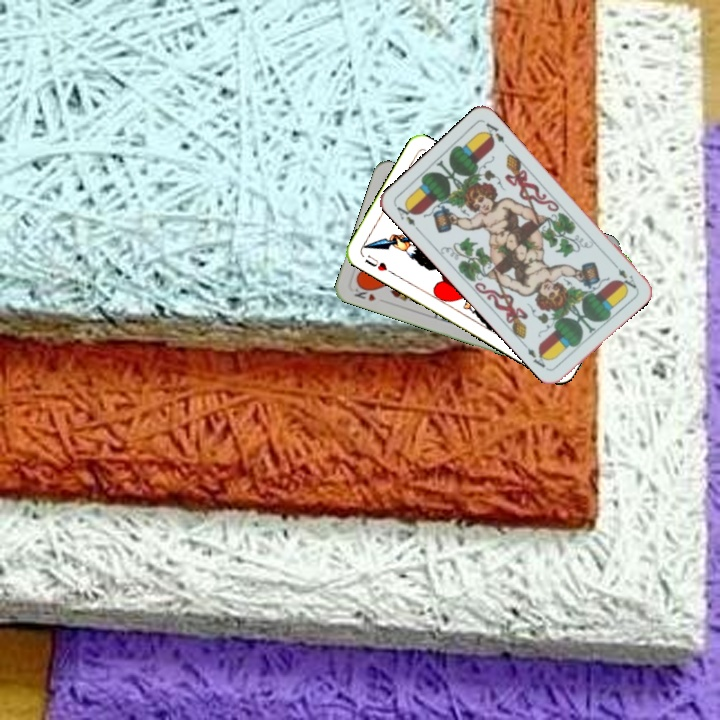EA: (391, 198, 423, 234), (608, 258, 639, 291)
HK: (350, 281, 378, 304)
HU: (361, 251, 396, 277)
